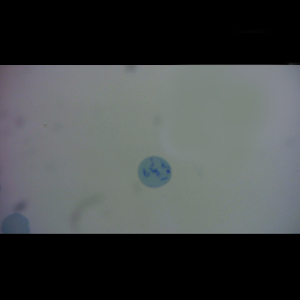aggregate reticulocyte: (136, 155, 173, 189)
